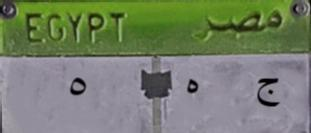5: (63, 73, 91, 102)
haa: (175, 74, 205, 98)
jeem: (248, 68, 284, 116)
